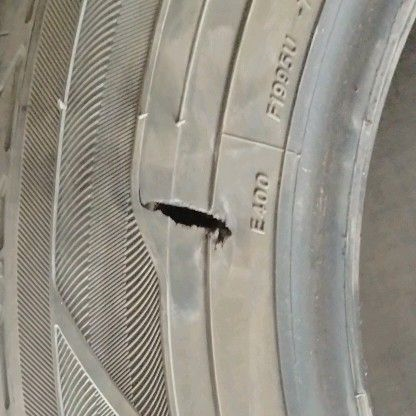cut: (137, 188, 235, 248)
